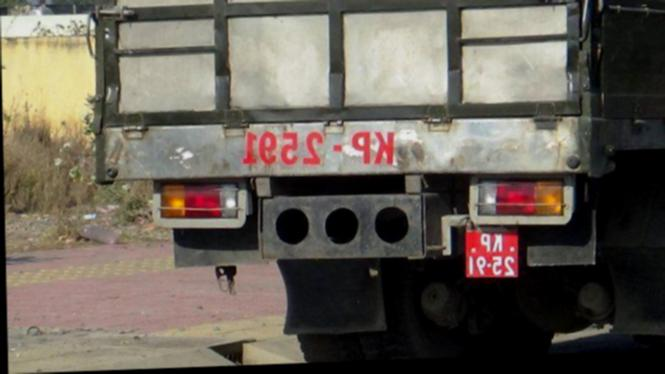License_Plate: (462, 226, 523, 281)
